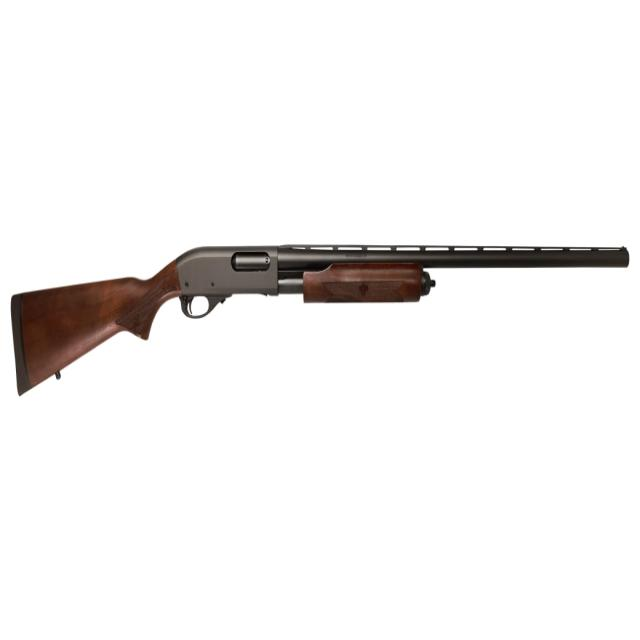ShotGun: (10, 244, 631, 392)
